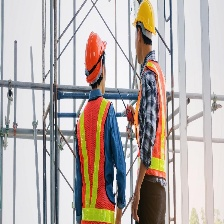helmet: (84, 31, 108, 87), (130, 2, 161, 36)
person: (75, 30, 126, 224), (132, 2, 169, 224)
vest: (78, 99, 125, 224), (133, 59, 171, 186)
